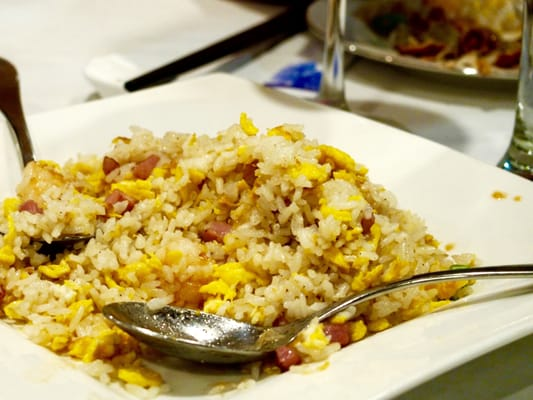burger: (39, 247, 533, 374)
pizza: (498, 1, 533, 180)
salad: (100, 298, 320, 368)
sandwich: (0, 55, 36, 168)
